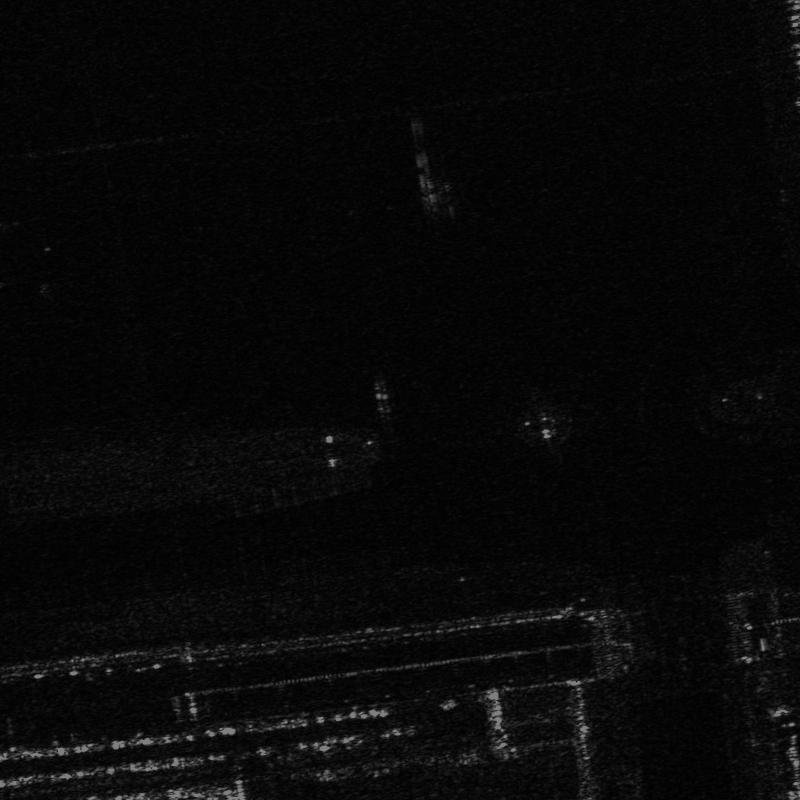A330: (519, 399, 568, 444)
